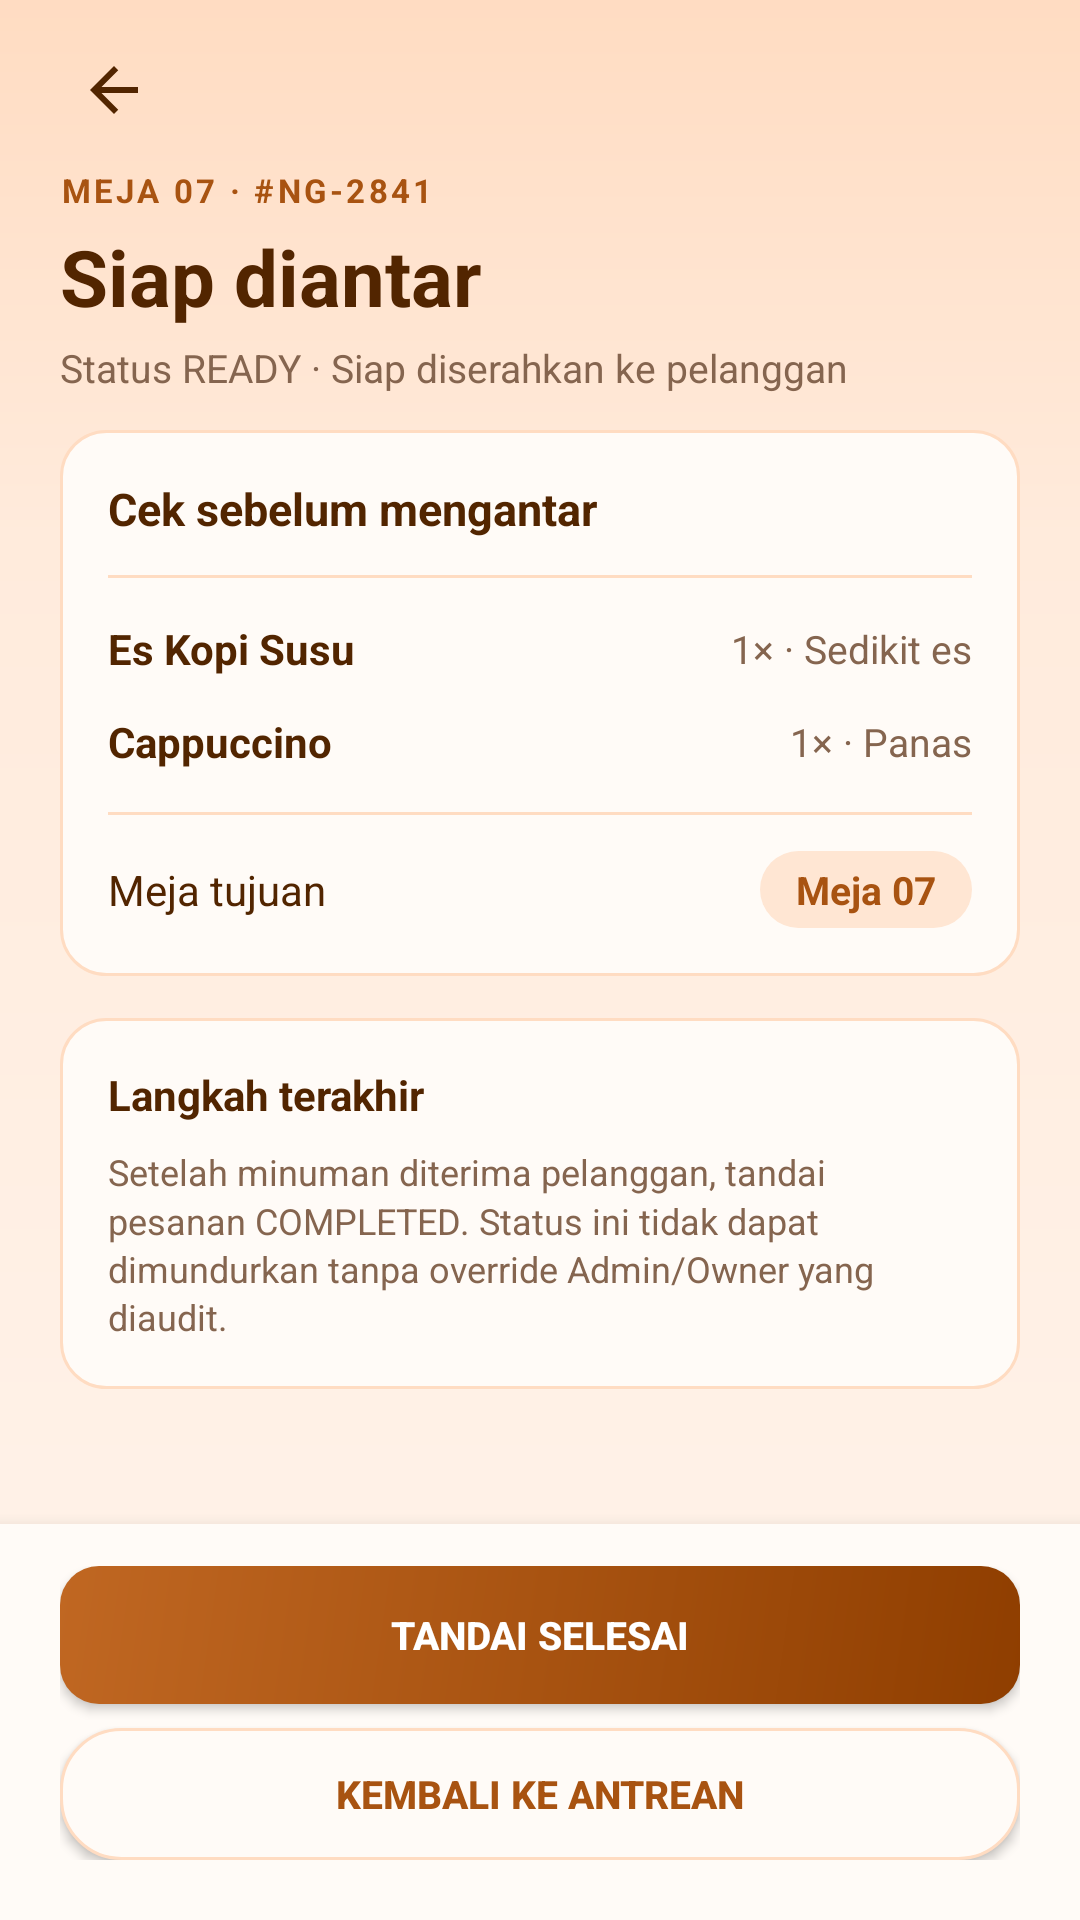

Screen size 1080*1920. Icon name, then its box in pixels as box(x1, y1, x2, y2):
Kembali: box(90, 66, 138, 114)
